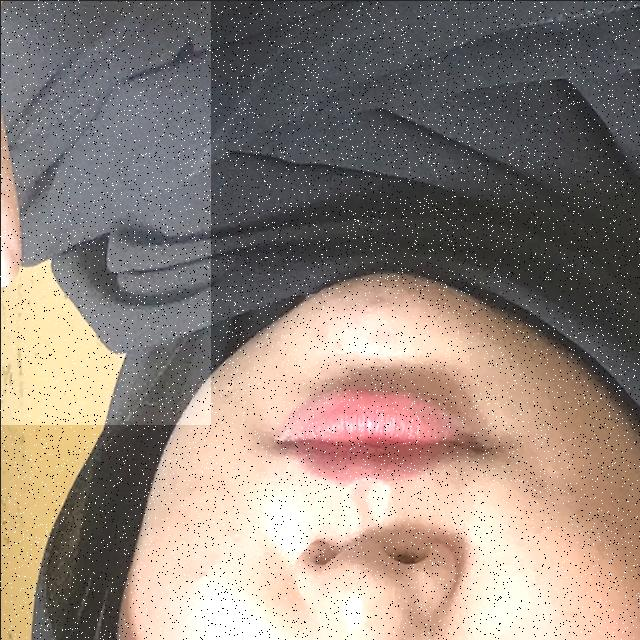kapan: (0, 0, 210, 424)
